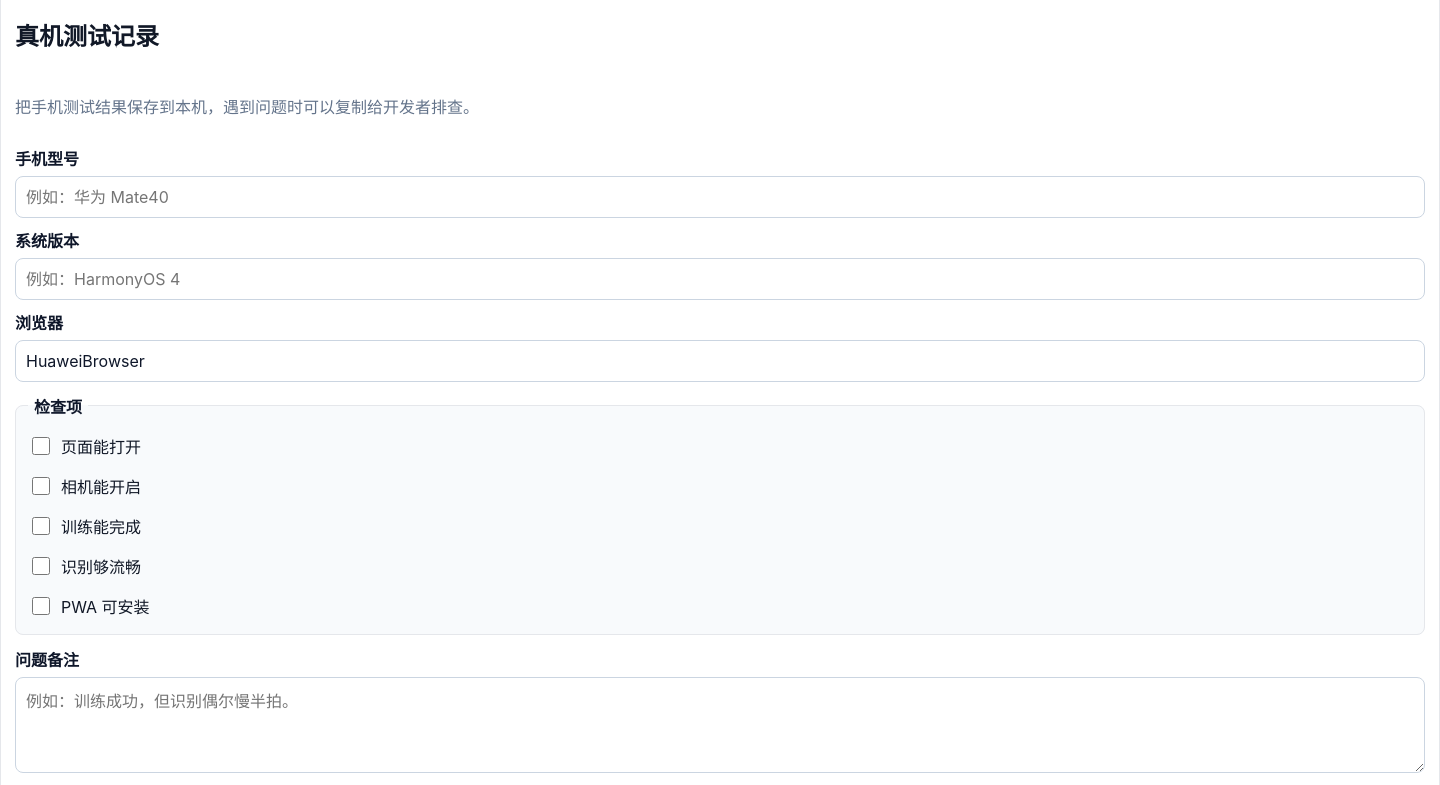
RealDeviceFeedbackPanel › copies the formatted report for sending feedback
In the field labelled "手机型号": (720, 197) [15, 176, 1425, 218], type "华为 Mate40"
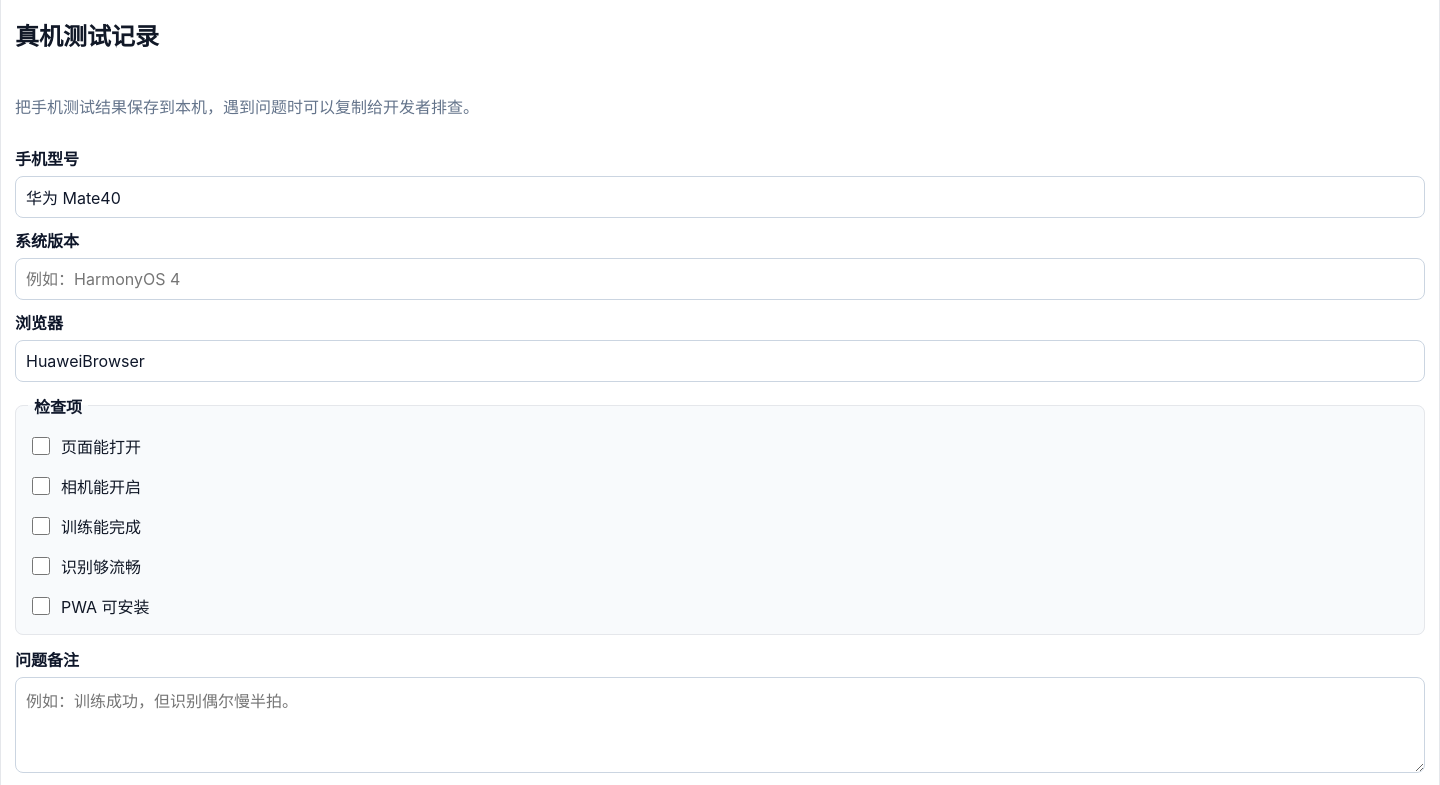
Click the checkbox labelled "识别够流畅": (41, 566) [32, 557, 50, 575]
(page scrolled)
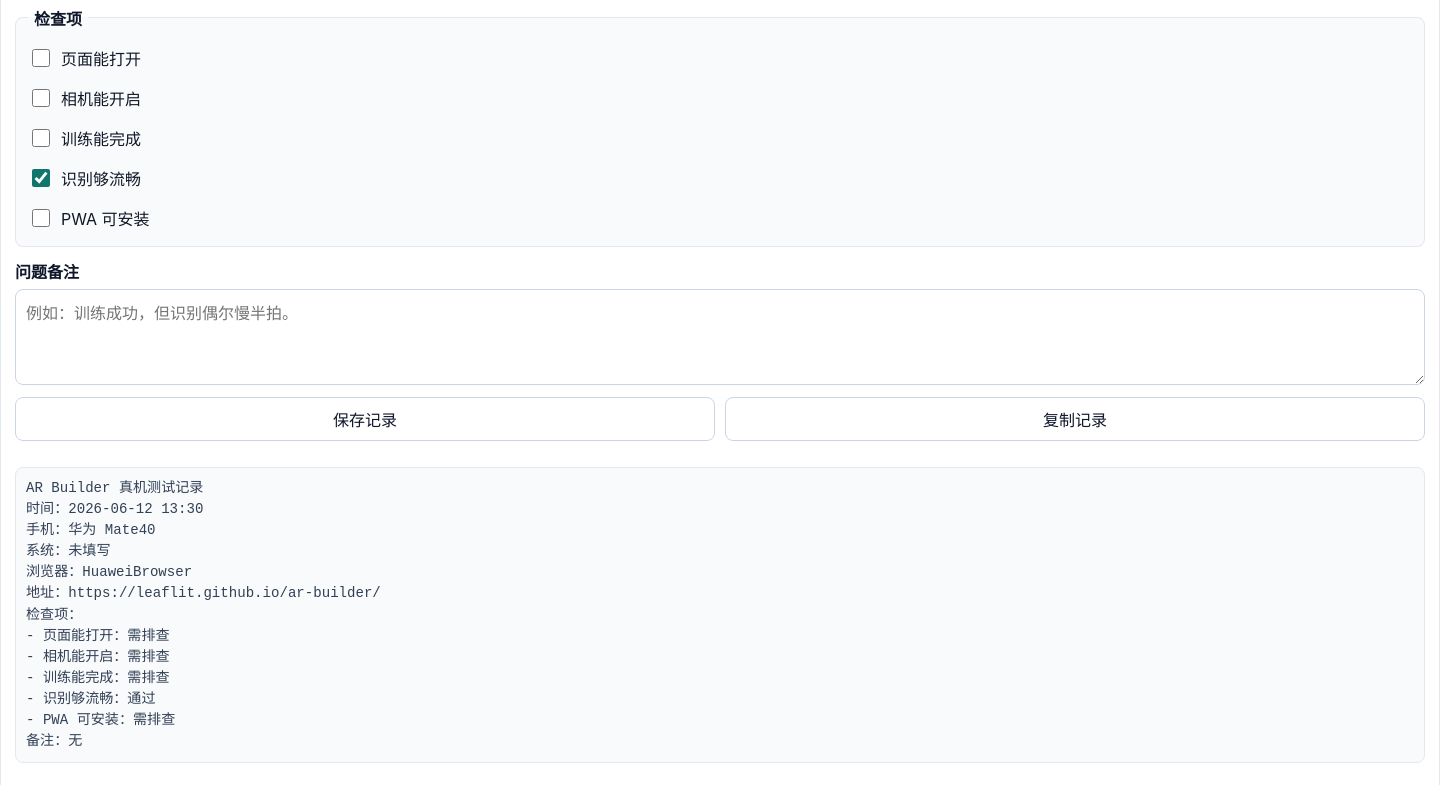
Click the button "复制记录": (1075, 419) [725, 397, 1425, 441]
(page scrolled)
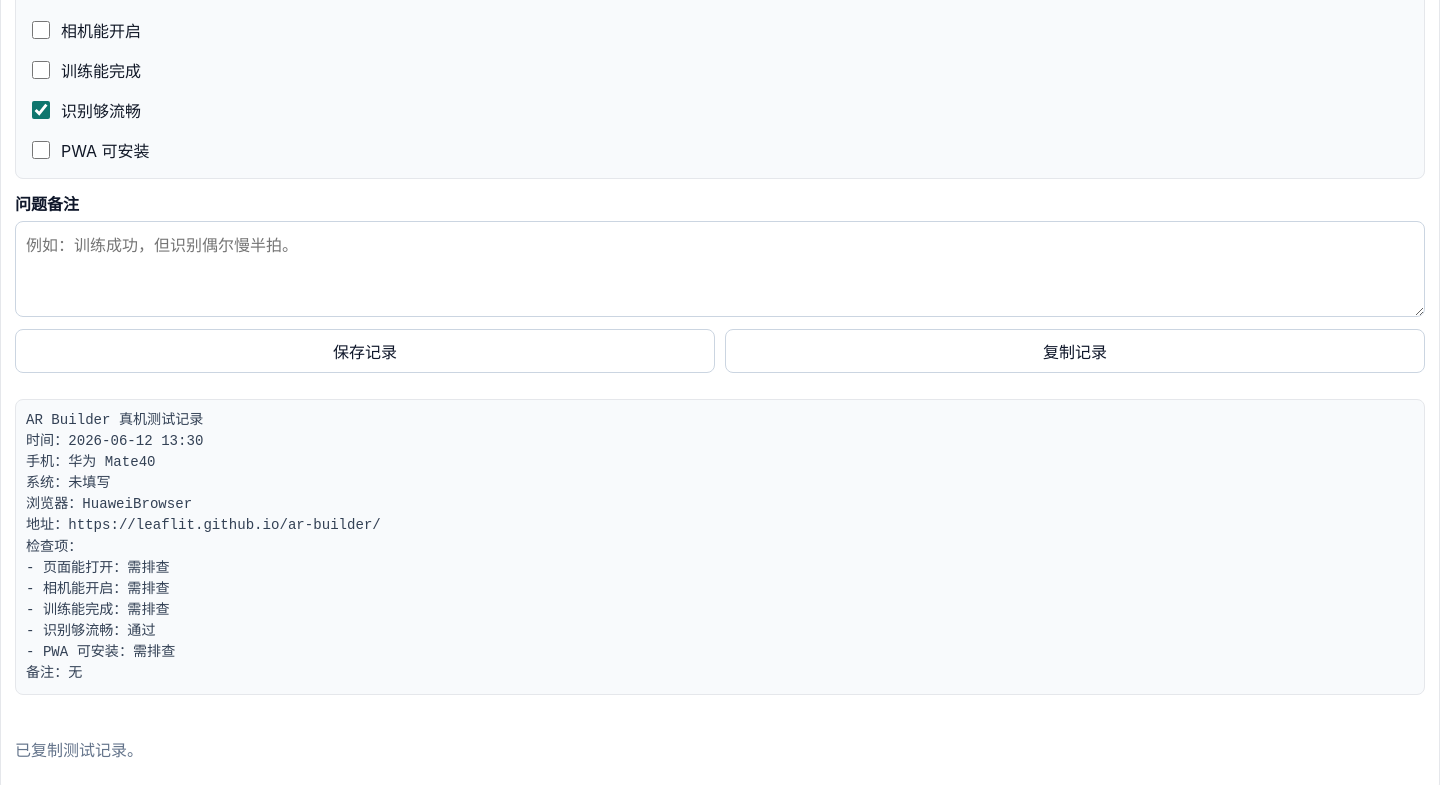
Check: the message reads "已复制测试记录。", box [15, 740, 143, 760]
